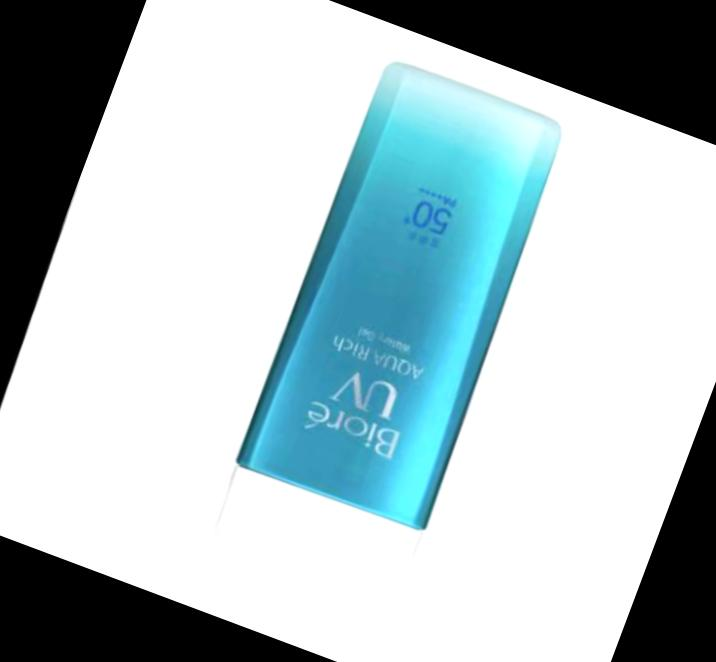cosmetic: (179, 50, 587, 660)
